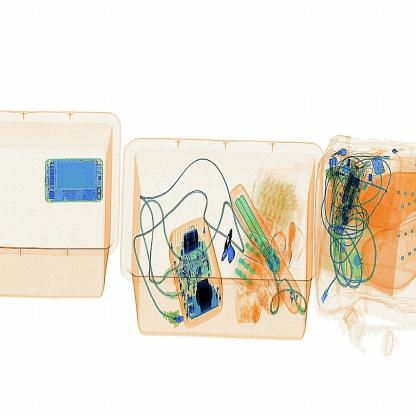wrench: (217, 216, 240, 280)
